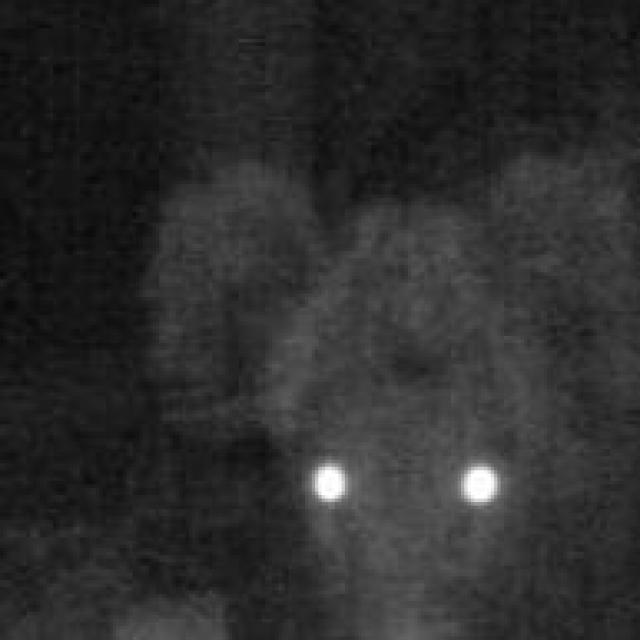pig: (180, 162, 640, 640)
